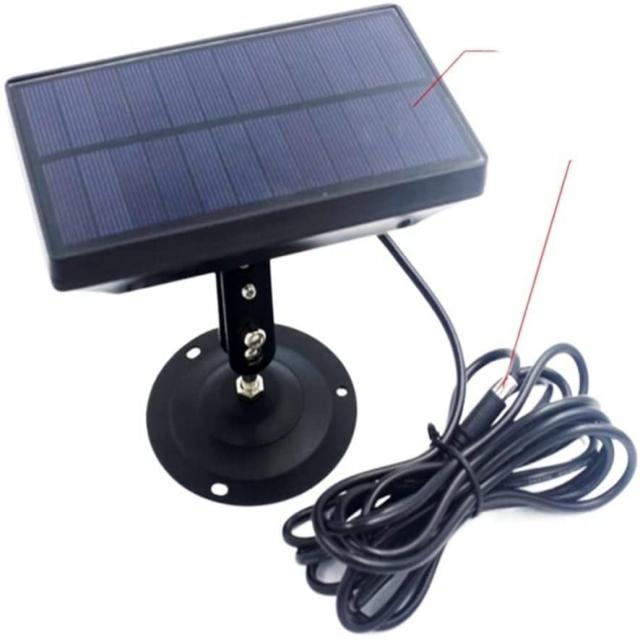no faulty: (4, 11, 477, 254)
